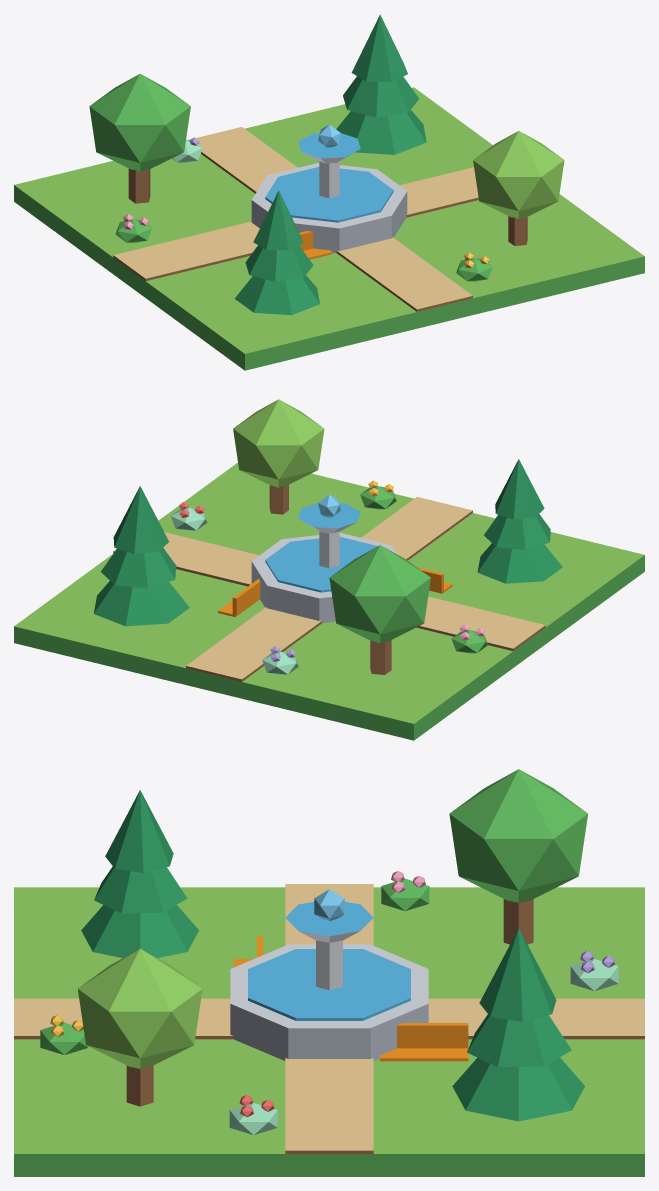
The model's file is park_fountain.glb.
3 views of the same model, one above another, from view 1: azimuth 30°, elevation 25°; view 2: azimuth 150°, elevation 25°; view 3: azimuth 270°, elevation 25° (orthographic). The views are drawn at different scales.
Visible parts, largest first — view 1: park_fountain; view 2: park_fountain; view 3: park_fountain.
Boxes of the visible parts, left/top/right/bottom form: park_fountain: left=14, top=14, right=644, bottom=370; park_fountain: left=14, top=399, right=644, bottom=740; park_fountain: left=14, top=769, right=644, bottom=1176.
Bounding box in the file's own units: 1 × 0.342 × 1.
